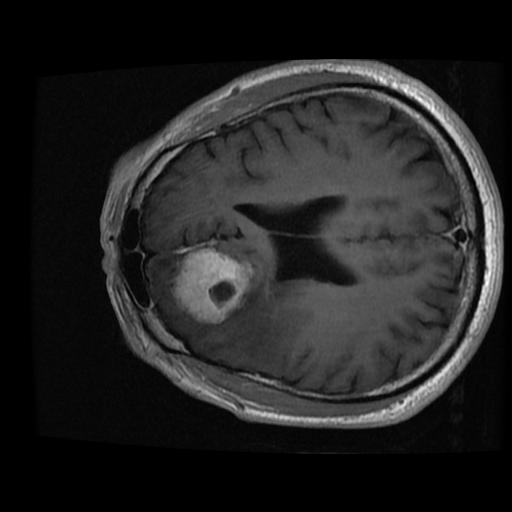meningioma: (169, 248, 251, 324)
